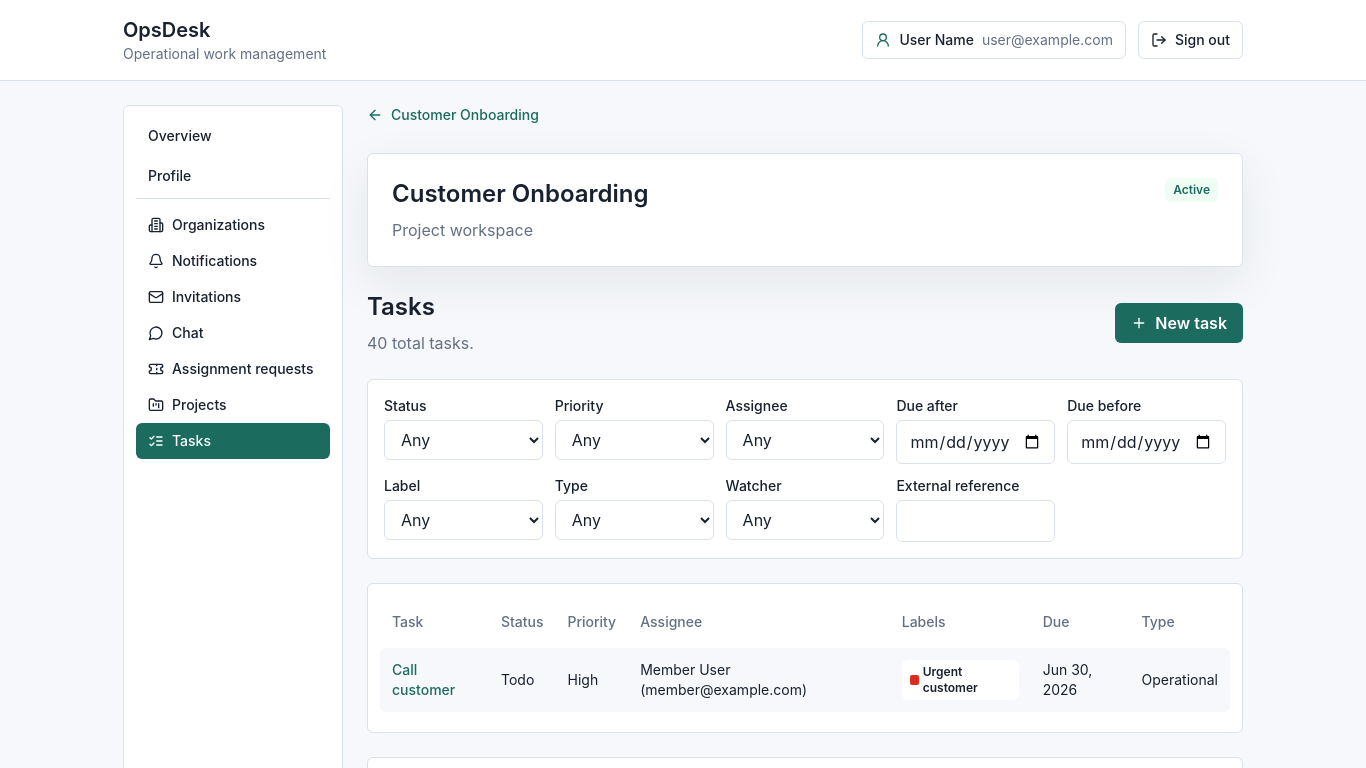
Scenario: SPEC-106 frontend projects and tasks UI › lists tasks and keeps filters in backend query parameters
Expected: the link "Call customer" is shown, 392,661 -> 455,698
Select "Done" in the dropdown labelled "Status" at (463, 440), box 384,420 -> 543,460
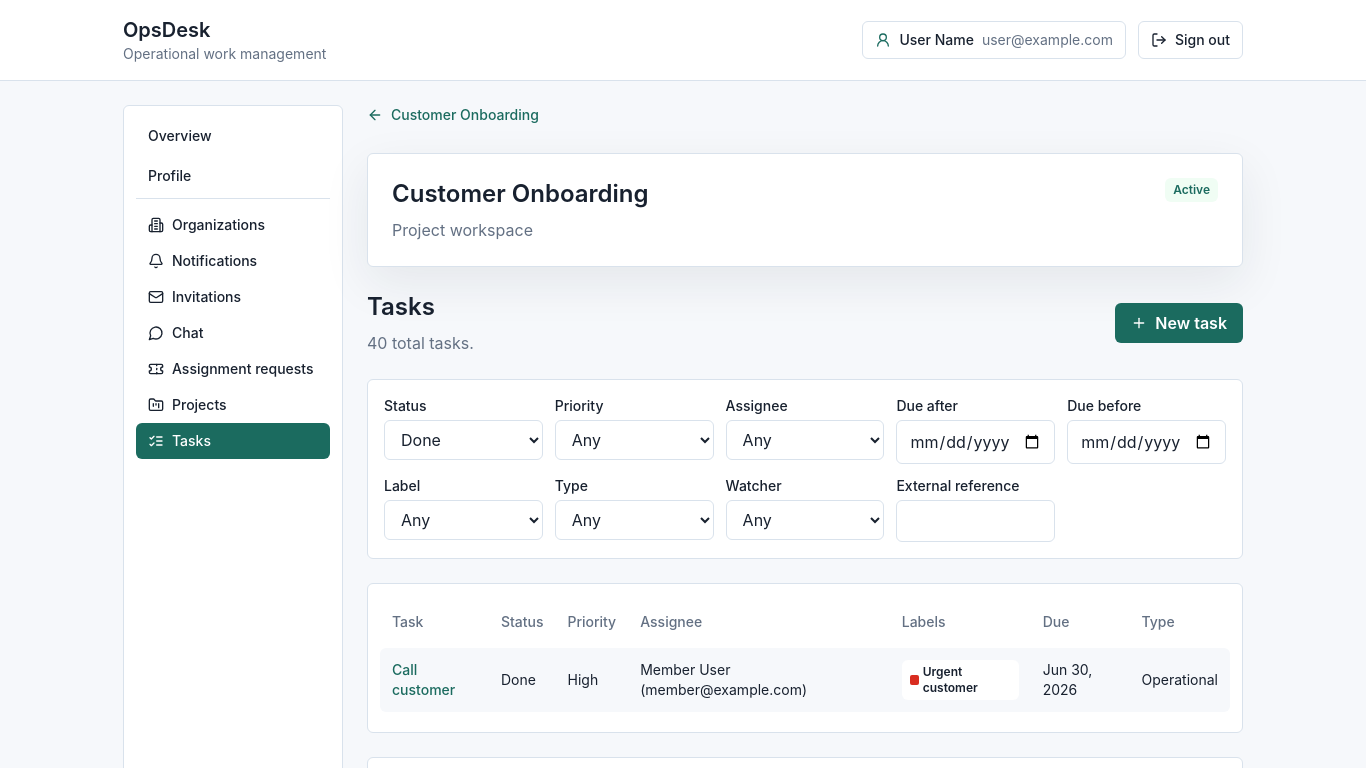
Select "Urgent customer" in the dropdown labelled "Label" at (463, 520), box 384,500 -> 543,540
(page scrolled)
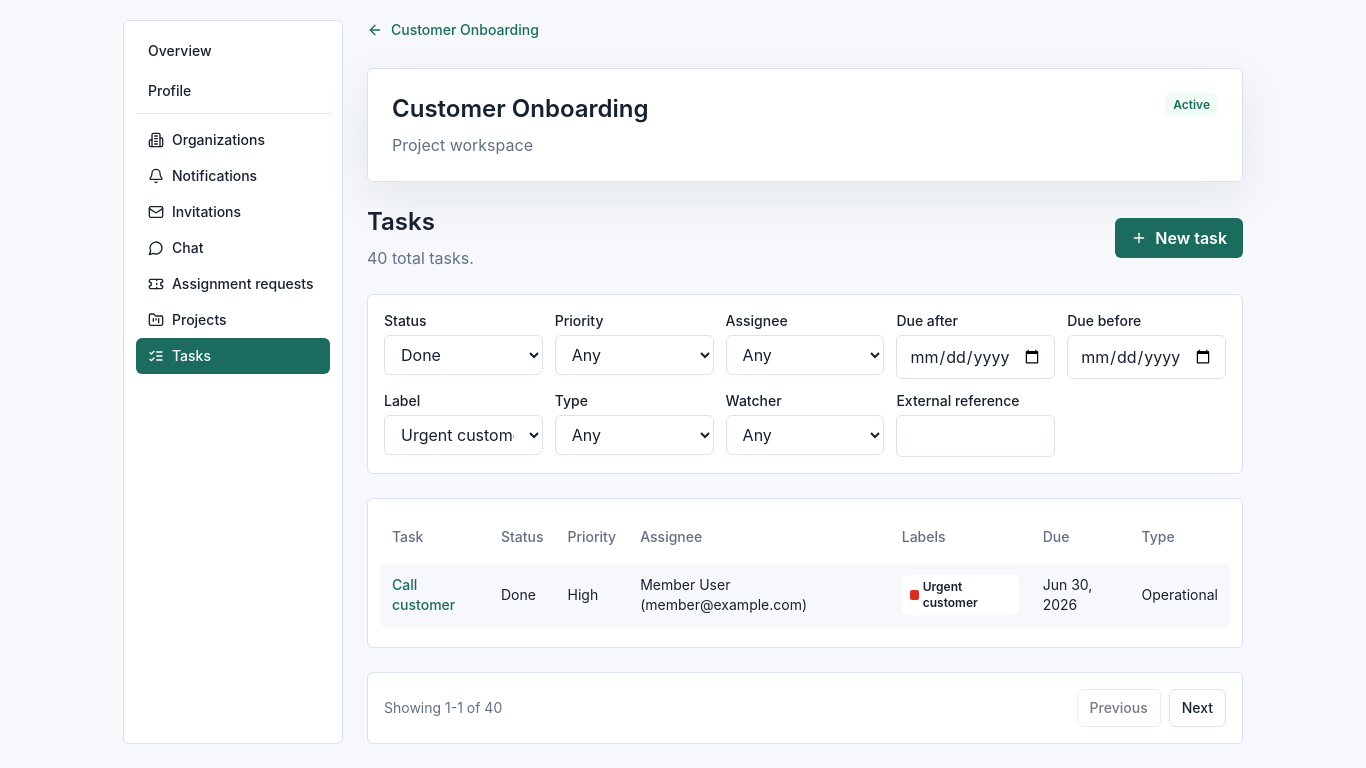
Click the button "Next" at (1197, 708), box 1169,689 -> 1226,727
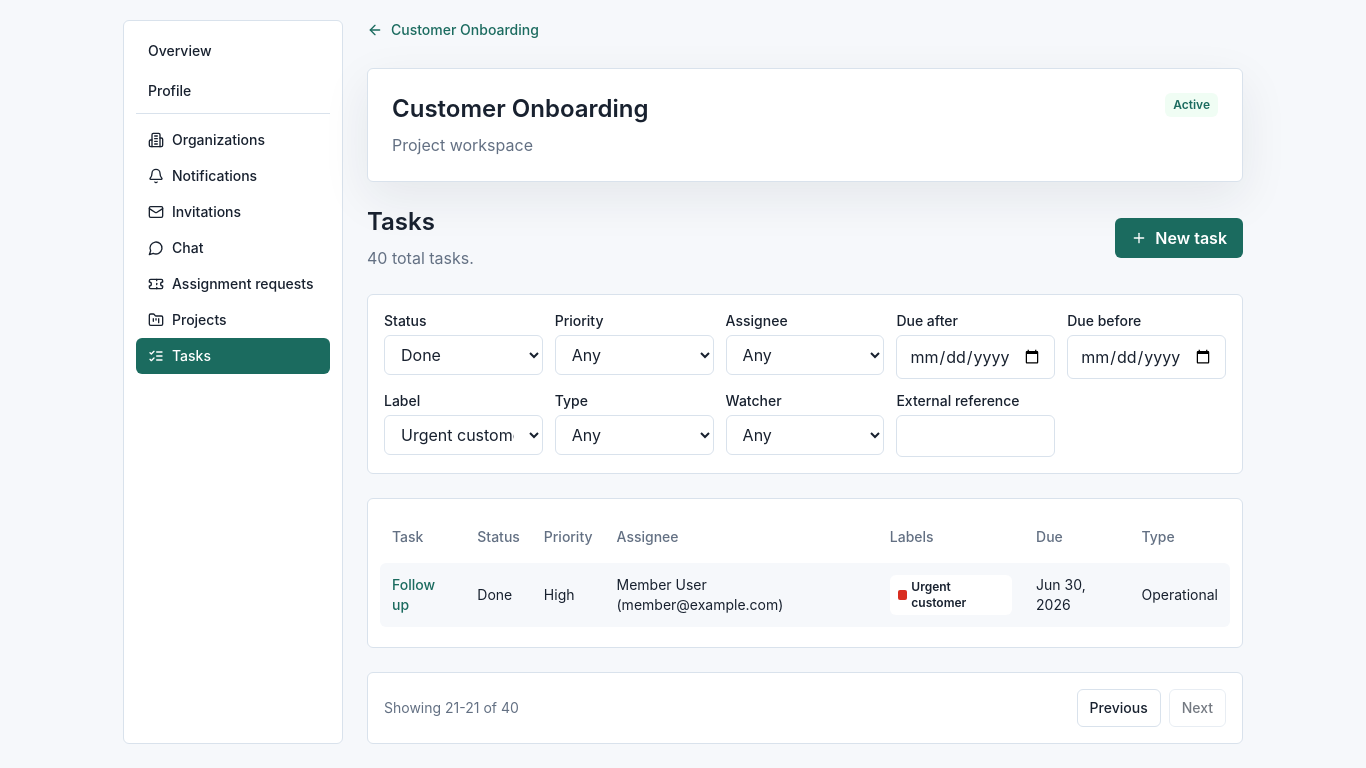
Result: the link "Follow up" is shown at 392,576 -> 435,613
